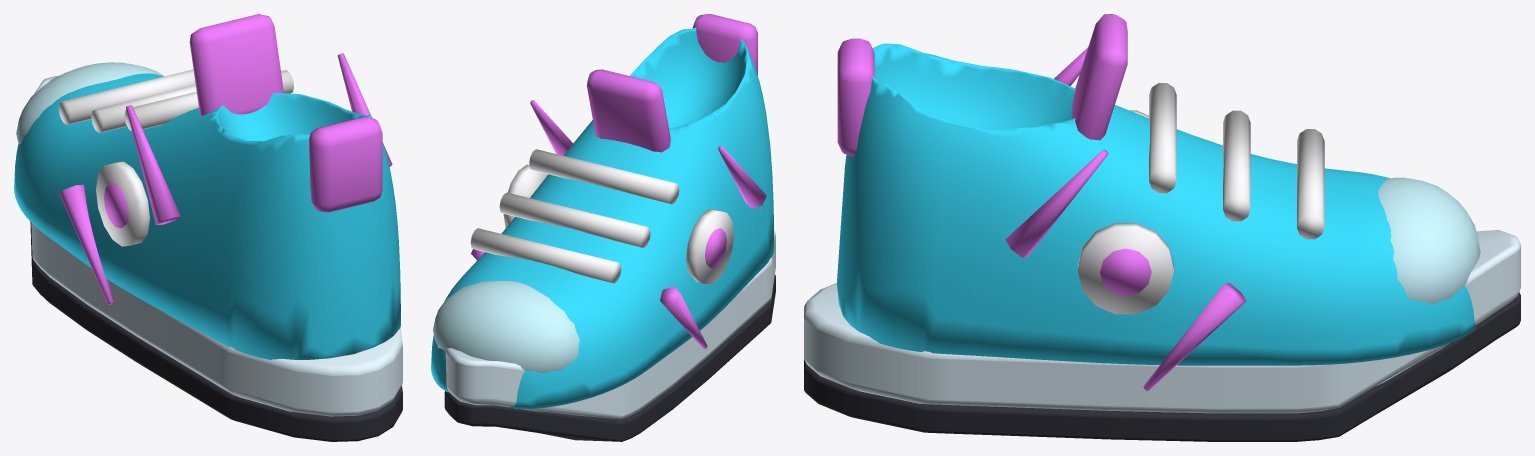
File: shoe_quasarkicks.fbx
3 renders of one model, left to right at view 1: azimuth 30°, elevation 25°; view 2: azimuth 150°, elevation 25°; view 3: azimuth 270°, elevation 25°, orthographic. The views are drawn at different scales.
Visible parts, largest first — view 1: shoe_quasarkicks; view 2: shoe_quasarkicks; view 3: shoe_quasarkicks.
Part boxes in pixels (x1=…): shoe_quasarkicks: x1=14, y1=14, x2=402, y2=441; shoe_quasarkicks: x1=431, y1=14, x2=775, y2=441; shoe_quasarkicks: x1=804, y1=14, x2=1520, y2=441.
Size of the model in its own units: 1.63 by 2.13 by 3.88.
1 material, 1 textured.
